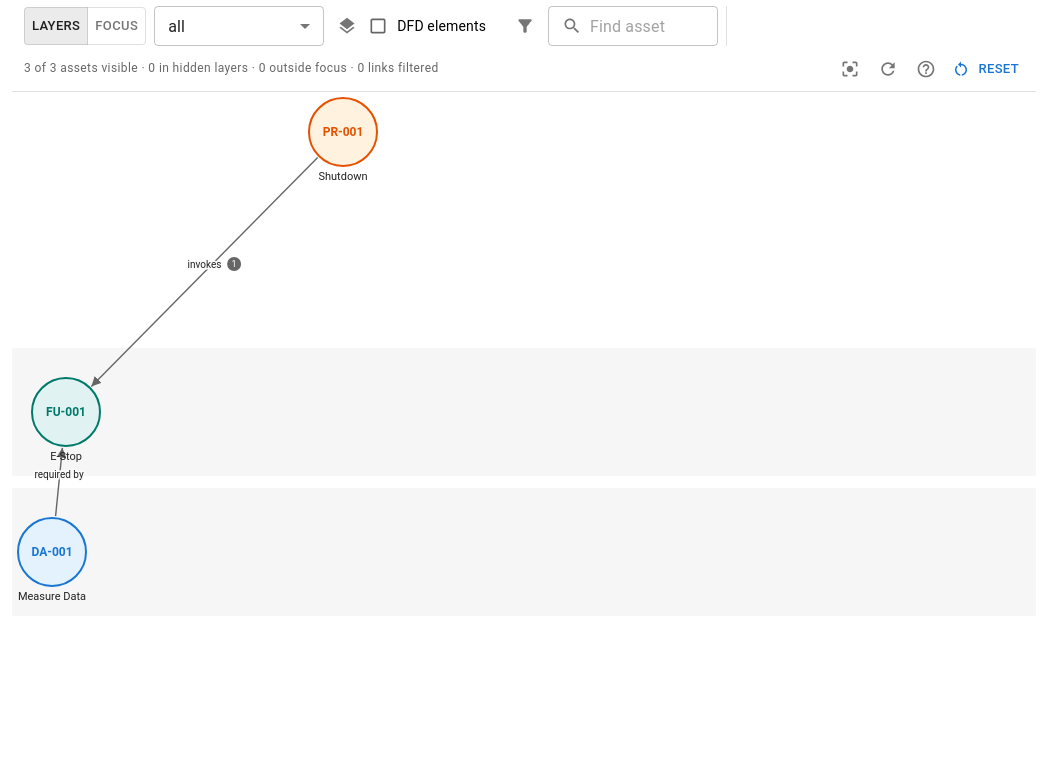
AssetGraphView › the architecture preset hides process; its link is a stub
This screenshot has width=1048, height=768.
Press the mouse on the dropdown at (177, 26), box left=168, top=16, right=185, bottom=36
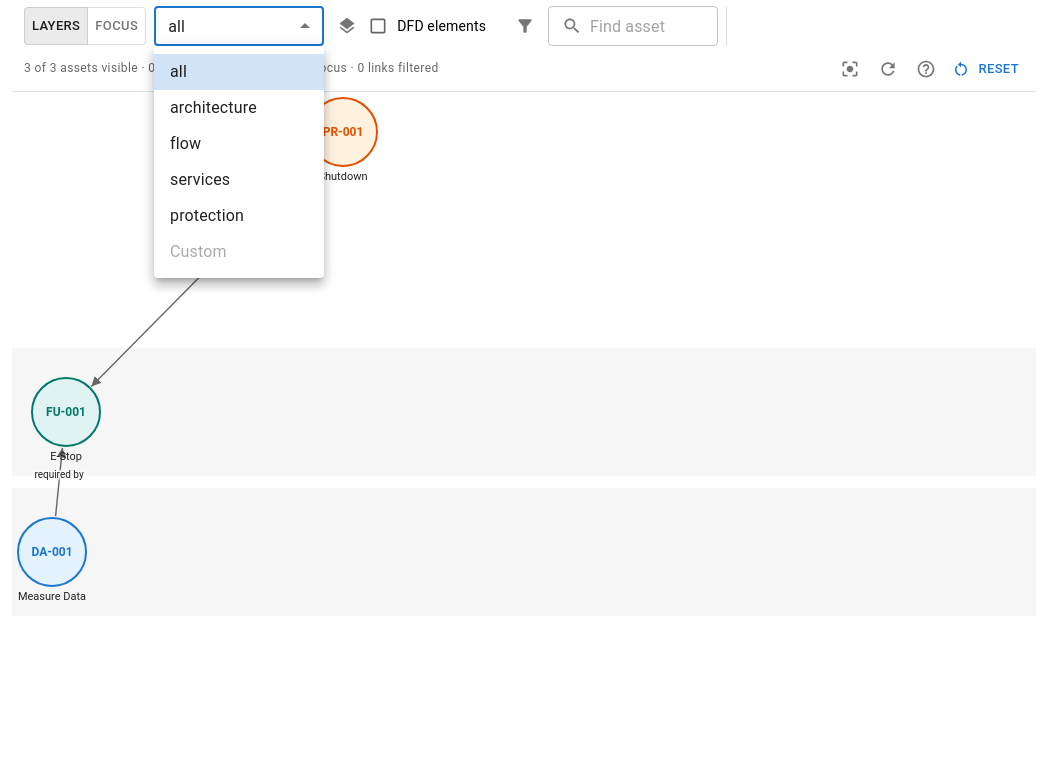
Click the option "architecture" at (213, 108), box left=170, top=98, right=257, bottom=117
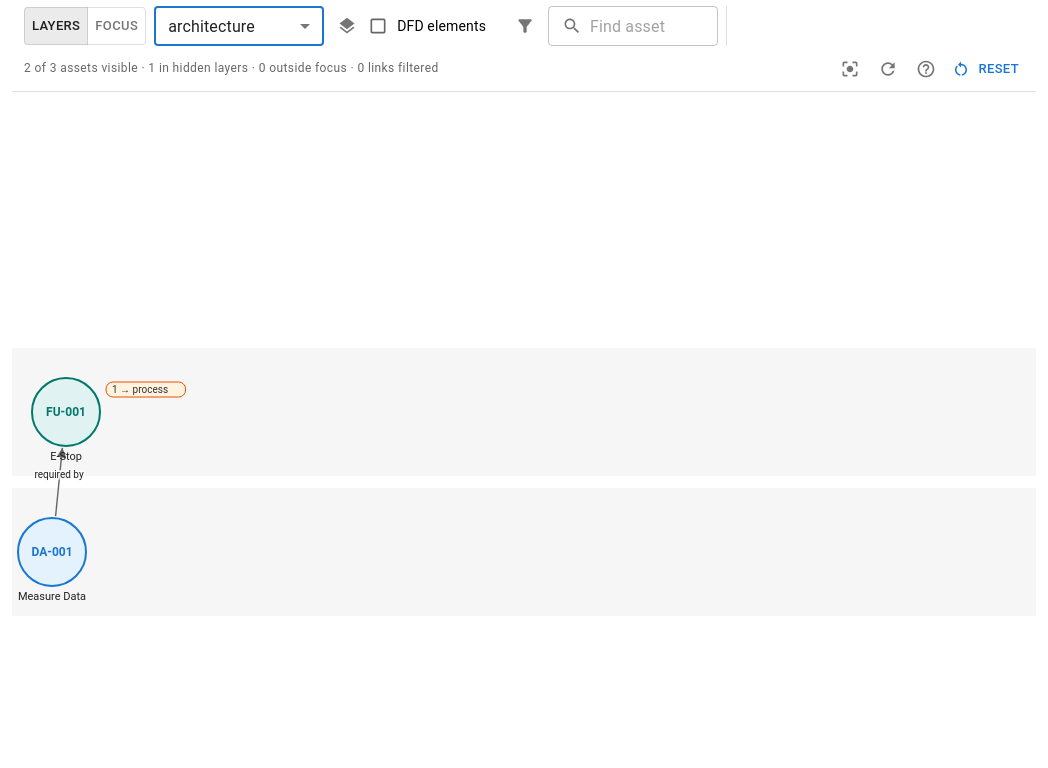
Check: the element with test id "asset-graph-node-d1" is shown, box left=18, top=518, right=86, bottom=603
Check: the text with test id "asset-graph-counts" shows "2 of 3 assets visible · 1 in hidden layers", box left=24, top=61, right=439, bottom=75
